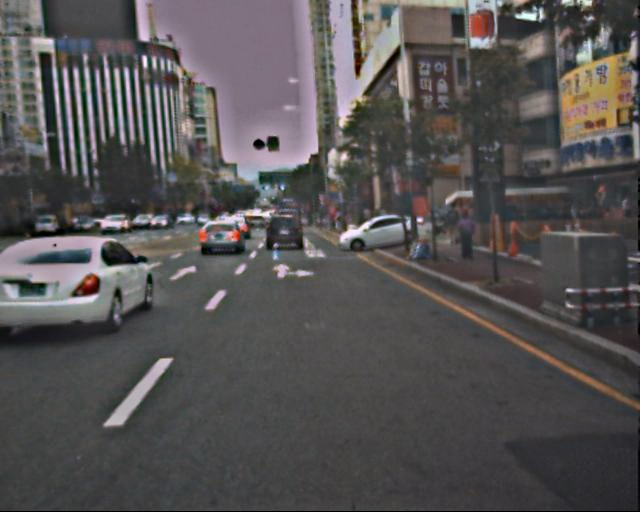person: (455, 208, 477, 262), (444, 203, 462, 248)
